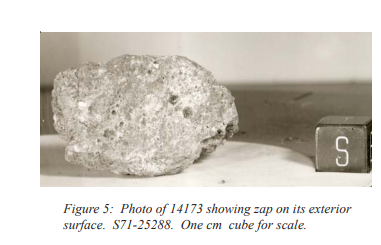Breccia: (30, 30, 225, 182), (40, 53, 282, 152)
